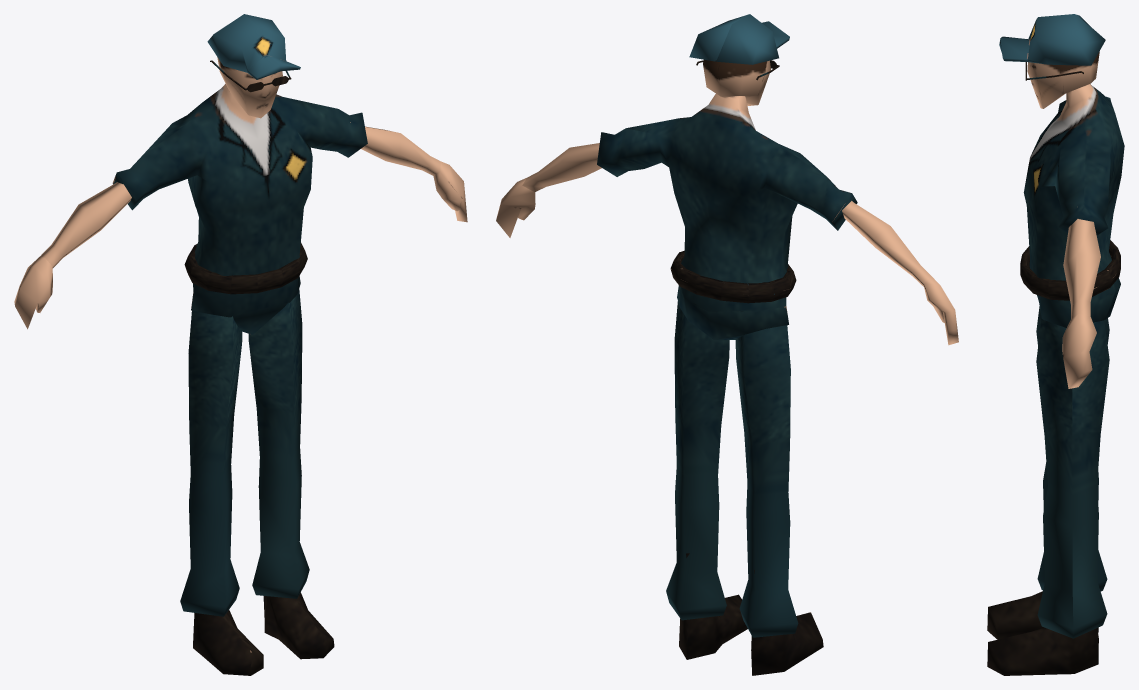
The model's file is policeman.glb.
The picture shows the model from 3 angles, left to right: view 1: azimuth 30°, elevation 25°; view 2: azimuth 150°, elevation 25°; view 3: azimuth 270°, elevation 25°; orthographic projection. The views are drawn at different scales.
Parts seen in each view (by area): view 1: head.004; view 2: head.004; view 3: head.004.
Part boxes in pixels (x1,y1,x2,y2): head.004: (14,14,467,675); head.004: (496,14,958,675); head.004: (987,14,1124,675).
Size of the model in its own units: 5.65 by 7.46 by 1.46.
Materials: 1 (1 with a texture image).
